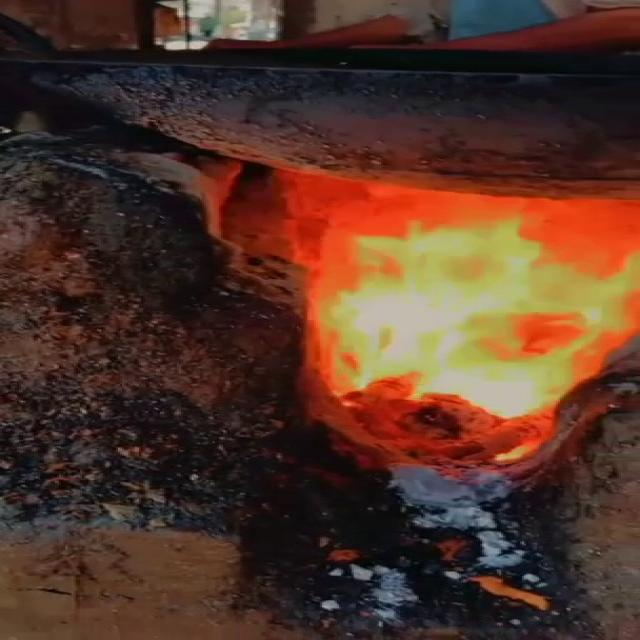Fire: (309, 195, 640, 465)
